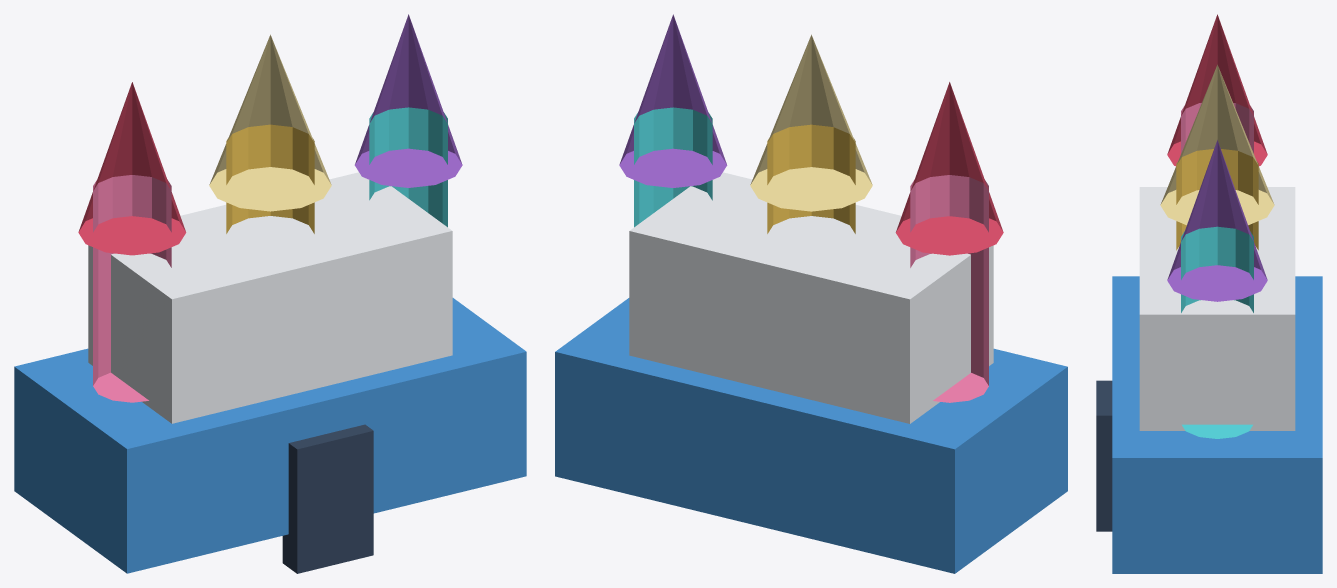
Rendered from minglora_coral_castle.gltf.
3 renders of one model, left to right at view 1: azimuth 30°, elevation 25°; view 2: azimuth 150°, elevation 25°; view 3: azimuth 270°, elevation 25°, orthographic. The views are drawn at different scales.
Visible parts, largest first — view 1: minglora_coral_castle_0, minglora_coral_castle_1, minglora_coral_castle_8, minglora_coral_castle_7, minglora_coral_castle_5, minglora_coral_castle_3, minglora_coral_castle_2, minglora_coral_castle_6, minglora_coral_castle_4; view 2: minglora_coral_castle_0, minglora_coral_castle_1, minglora_coral_castle_7, minglora_coral_castle_5, minglora_coral_castle_3, minglora_coral_castle_2, minglora_coral_castle_6, minglora_coral_castle_4; view 3: minglora_coral_castle_0, minglora_coral_castle_1, minglora_coral_castle_5, minglora_coral_castle_7, minglora_coral_castle_4, minglora_coral_castle_3, minglora_coral_castle_6, minglora_coral_castle_8, minglora_coral_castle_2.
Boxes of the visible parts, bbox=[...] form: minglora_coral_castle_0: bbox=[14, 298, 526, 573]; minglora_coral_castle_1: bbox=[88, 172, 452, 423]; minglora_coral_castle_8: bbox=[282, 424, 373, 573]; minglora_coral_castle_7: bbox=[209, 34, 331, 211]; minglora_coral_castle_5: bbox=[354, 14, 462, 187]; minglora_coral_castle_3: bbox=[78, 82, 186, 255]; minglora_coral_castle_2: bbox=[93, 175, 171, 402]; minglora_coral_castle_6: bbox=[226, 124, 314, 233]; minglora_coral_castle_4: bbox=[369, 107, 447, 227]; minglora_coral_castle_0: bbox=[555, 298, 1067, 573]; minglora_coral_castle_1: bbox=[629, 172, 993, 423]; minglora_coral_castle_7: bbox=[750, 34, 872, 211]; minglora_coral_castle_5: bbox=[619, 14, 727, 187]; minglora_coral_castle_3: bbox=[895, 82, 1003, 255]; minglora_coral_castle_2: bbox=[910, 175, 988, 402]; minglora_coral_castle_6: bbox=[767, 124, 855, 233]; minglora_coral_castle_4: bbox=[634, 107, 712, 227]; minglora_coral_castle_0: bbox=[1112, 276, 1322, 573]; minglora_coral_castle_1: bbox=[1139, 187, 1295, 430]; minglora_coral_castle_5: bbox=[1167, 140, 1267, 301]; minglora_coral_castle_7: bbox=[1160, 64, 1274, 225]; minglora_coral_castle_4: bbox=[1181, 226, 1253, 438]; minglora_coral_castle_3: bbox=[1167, 14, 1267, 166]; minglora_coral_castle_6: bbox=[1176, 149, 1258, 250]; minglora_coral_castle_8: bbox=[1096, 380, 1112, 531]; minglora_coral_castle_2: bbox=[1181, 103, 1253, 153].
Size of the model in its own units: 1.88 by 2.17 by 0.99.
